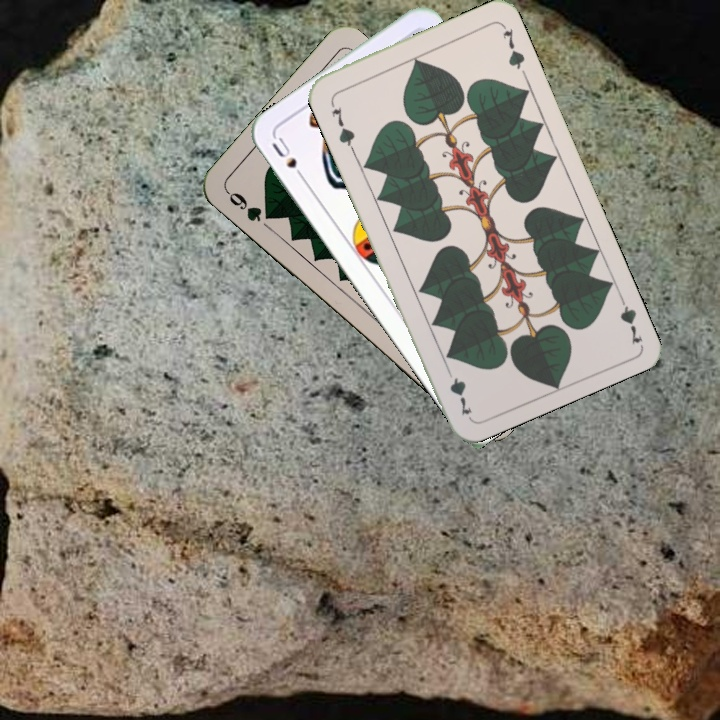G7: (614, 288, 646, 347), (327, 103, 358, 152)
G9: (222, 187, 277, 225)
SU: (267, 133, 310, 185)
